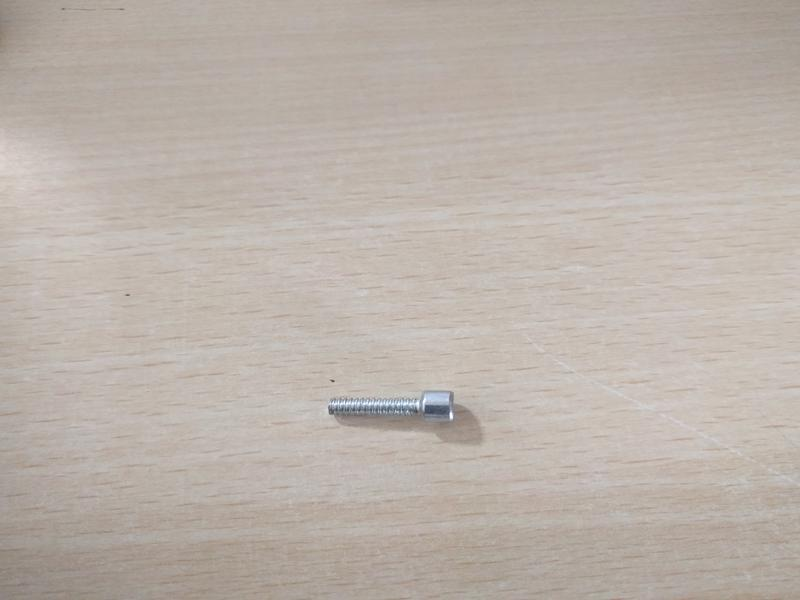smallscrew: (317, 379, 474, 448)
